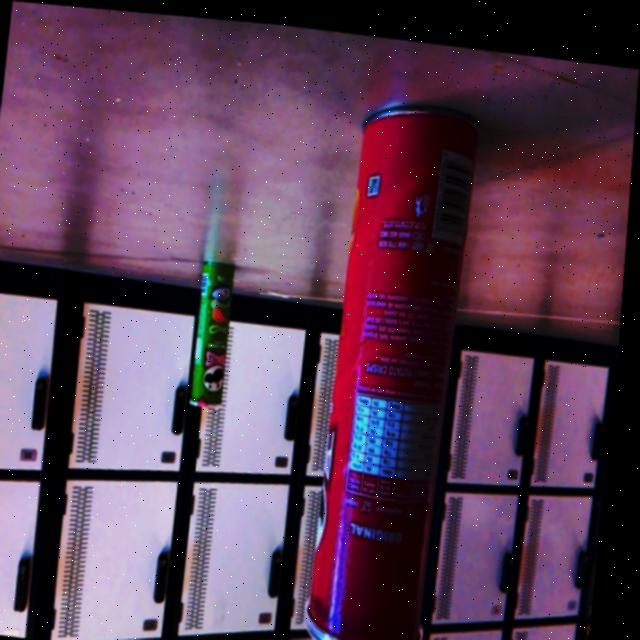greenpringles: (182, 245, 240, 419)
redpringles: (291, 68, 498, 640)
